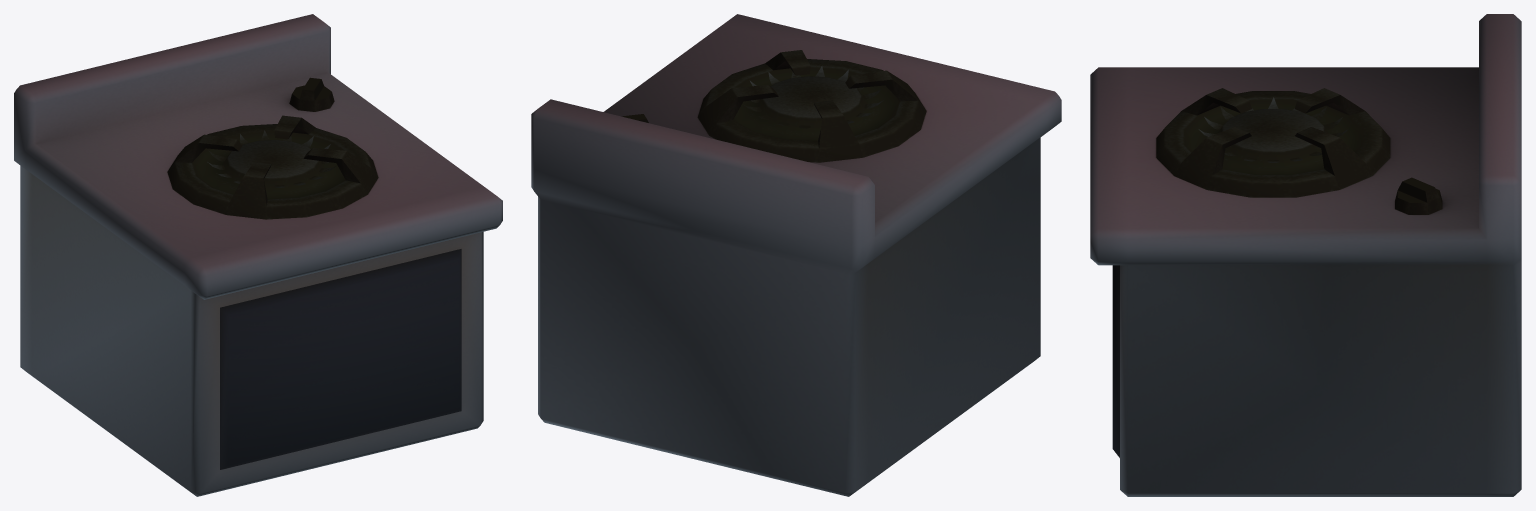
File: Stove.fbx
3 views of the same model, side by side, from view 1: azimuth 30°, elevation 25°; view 2: azimuth 150°, elevation 25°; view 3: azimuth 270°, elevation 25° (orthographic). The views are drawn at different scales.
Visible parts, largest first — view 1: Counter; view 2: Counter; view 3: Counter.
Part boxes in pixels (box(x1,y1,x2,y2)): Counter: box(14, 14, 502, 496); Counter: box(531, 14, 1061, 496); Counter: box(1090, 14, 1521, 496).
Size of the model in its own units: 99.04 by 89.35 by 107.
